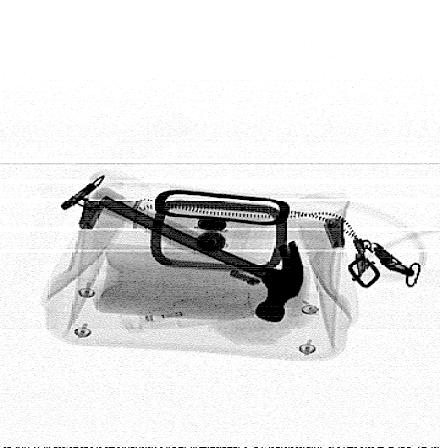Hammer: (90, 188, 305, 324)
